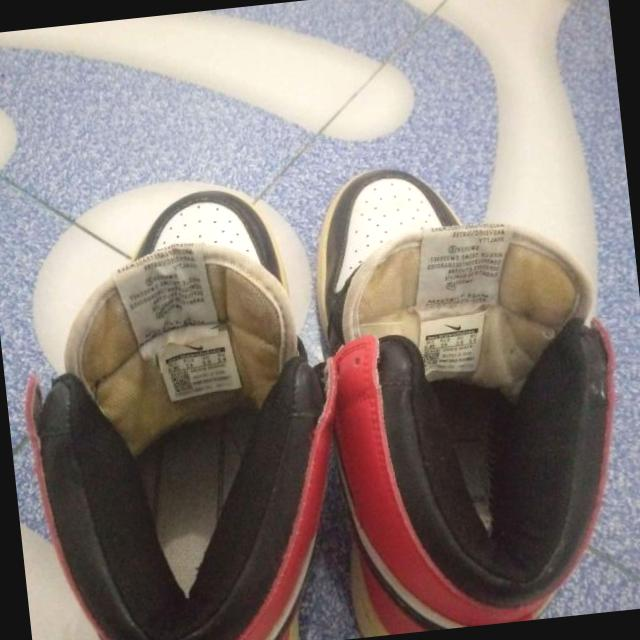nike_fake_jordan: (269, 143, 640, 640), (0, 179, 363, 640)
